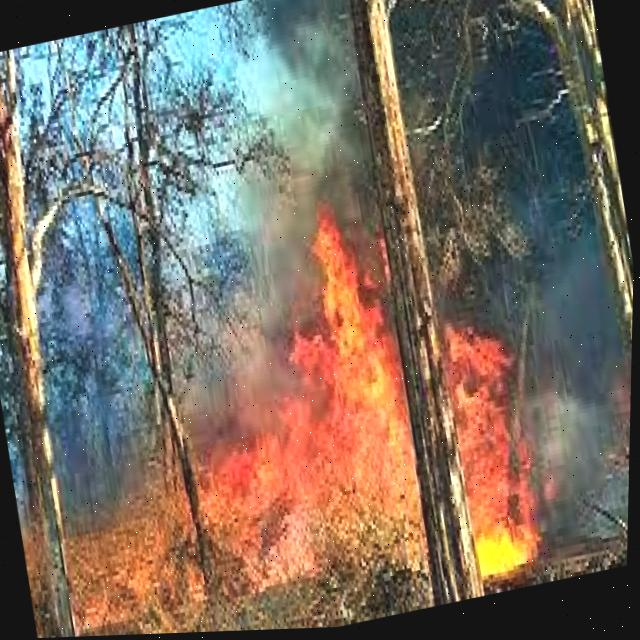smoke: (436, 28, 633, 562), (179, 0, 395, 454), (38, 197, 185, 536), (390, 0, 451, 130), (0, 357, 34, 530)
